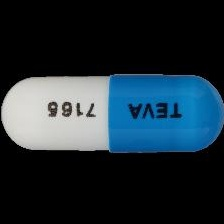42291-193: (0, 0, 224, 224)
